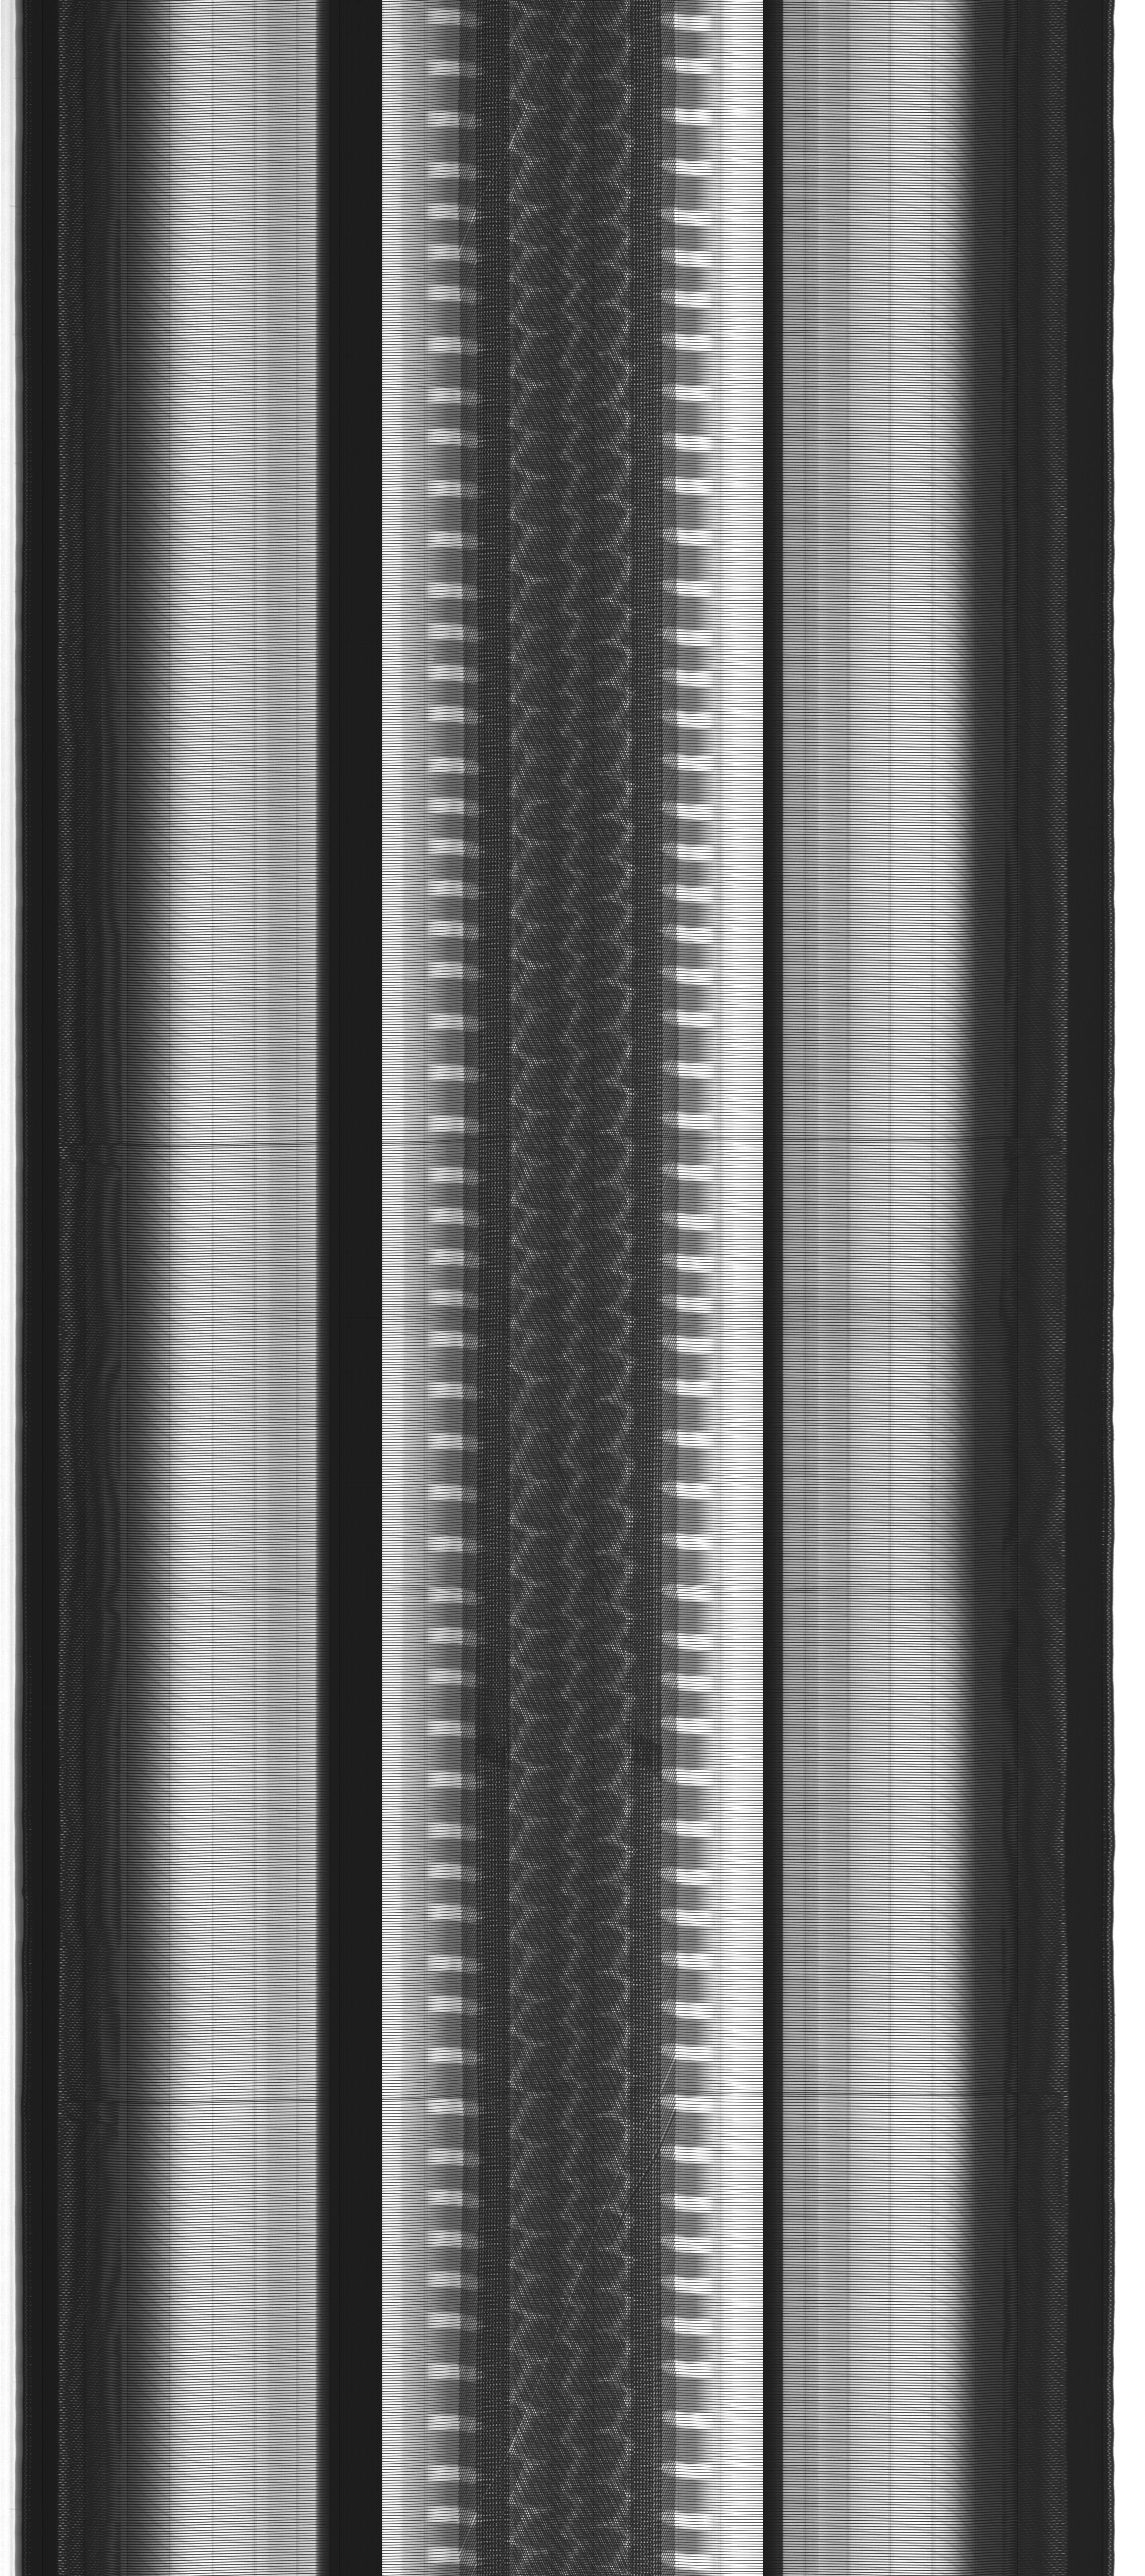73B: (409, 642, 448, 680)
